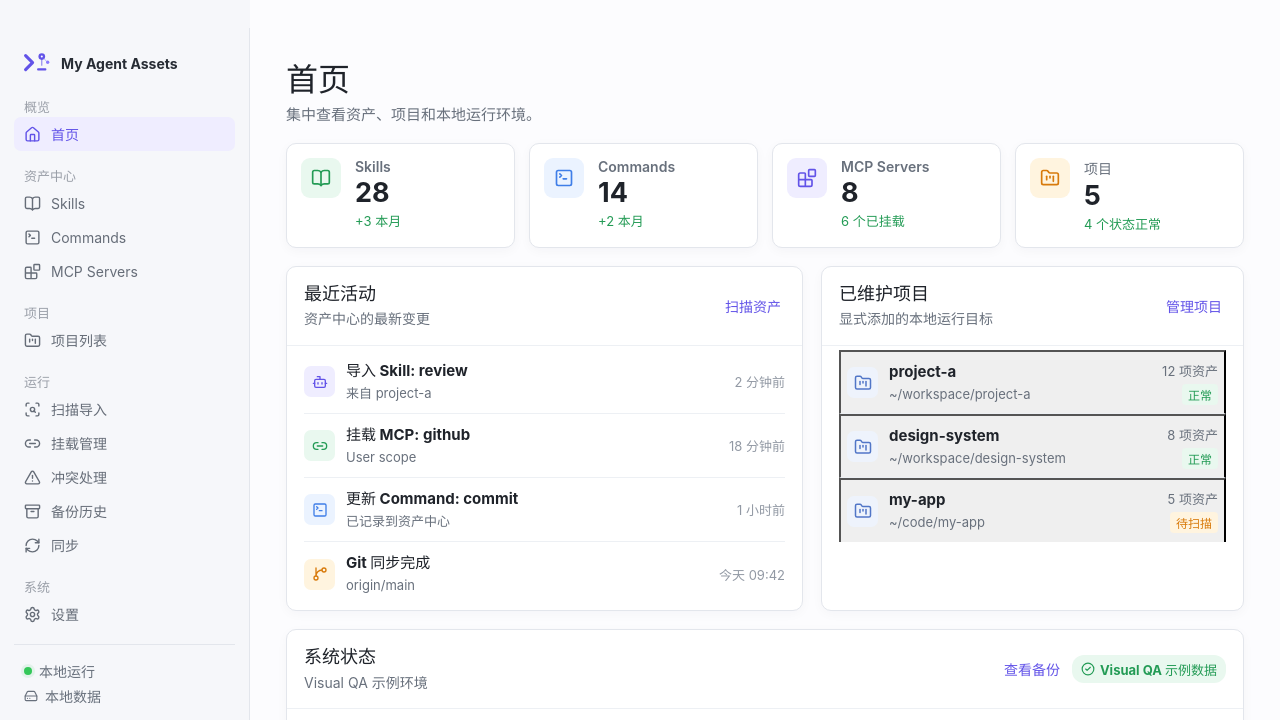
Test: macOS preview home › keeps provider choice inside operation pages
This screenshot has width=1280, height=720.
Click the button "Commands": (124, 237) [14,220,235,254]
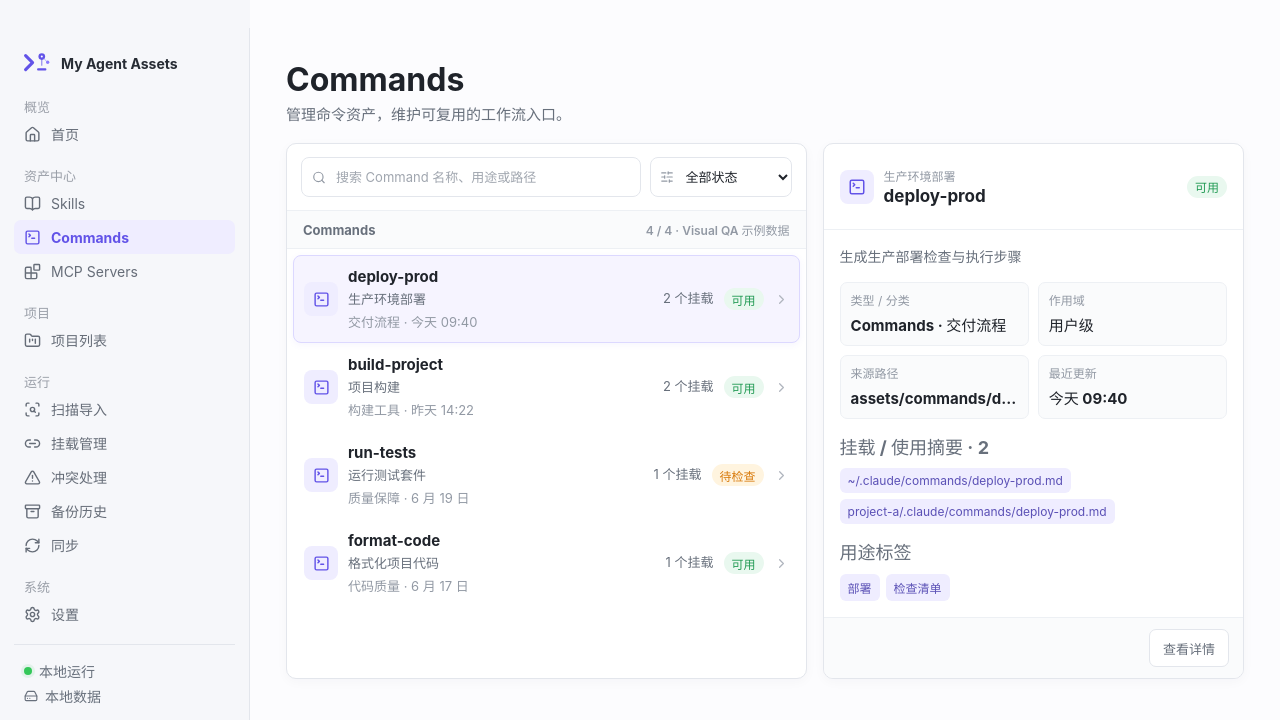
expect the heading "Commands" is shown: met, box [286,60,464,99]
